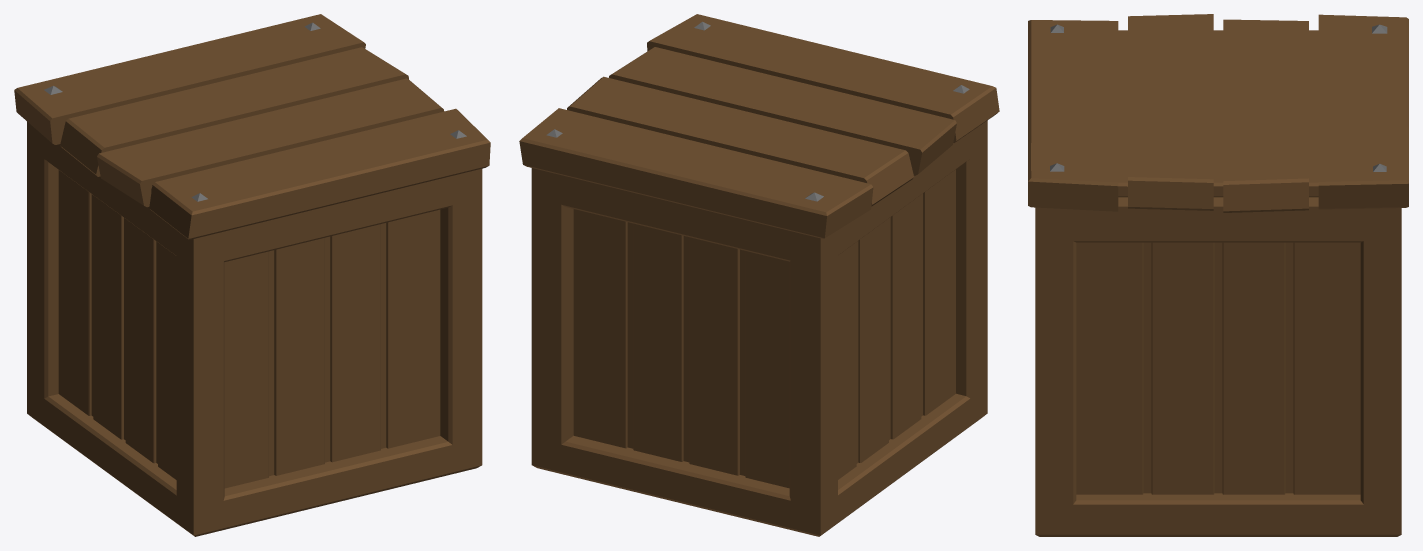
The model's file is Crate (closed).fbx.
3 renders of one model, left to right at view 1: azimuth 30°, elevation 25°; view 2: azimuth 150°, elevation 25°; view 3: azimuth 270°, elevation 25°, orthographic. The views are drawn at different scales.
Parts seen in each view (by area): view 1: Crate; view 2: Crate; view 3: Crate.
Part boxes in pixels (x1=…): Crate: x1=14, y1=14, x2=490, y2=536; Crate: x1=519, y1=14, x2=999, y2=536; Crate: x1=1028, y1=14, x2=1408, y2=536.
Size of the model in its own units: 216 by 217 by 203.
